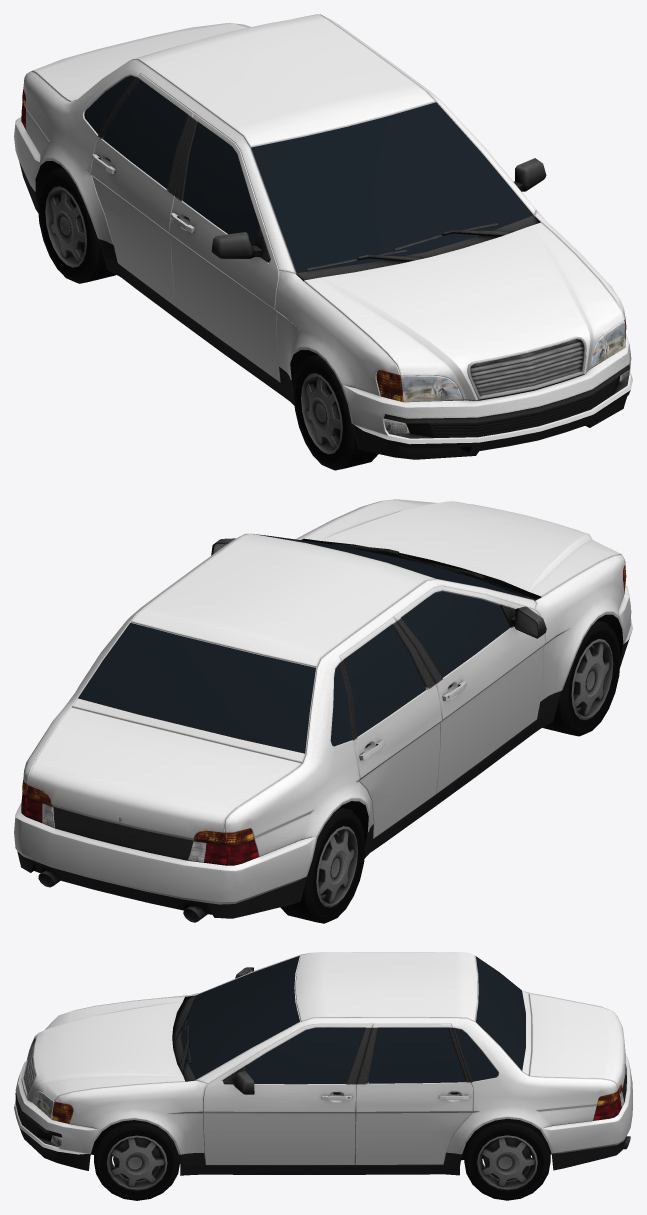
The model's file is berline.glb.
3 renders of one model, top to bottom at view 1: azimuth 30°, elevation 25°; view 2: azimuth 150°, elevation 25°; view 3: azimuth 270°, elevation 25°, orthographic. The views are drawn at different scales.
Parts seen in each view (by area): view 1: carrosserie, wheel_3, wheel_0; view 2: carrosserie, wheel_0, wheel_3; view 3: carrosserie, wheel_1, wheel_2.
Part boxes in pixels (x1=…): carrosserie: x1=14, y1=14, x2=632, y2=459; wheel_3: x1=293, y1=354, x2=378, y2=470; wheel_0: x1=38, y1=167, x2=115, y2=283; carrosserie: x1=14, y1=499, x2=632, y2=922; wheel_0: x1=280, y1=807, x2=365, y2=923; wheel_3: x1=543, y1=620, x2=620, y2=736; carrosserie: x1=14, y1=952, x2=632, y2=1175; wheel_1: x1=464, y1=1119, x2=550, y2=1200; wheel_2: x1=94, y1=1120, x2=179, y2=1200.
Bounding box in the file's own units: 2.18 × 1.51 × 4.91.
Materials: 7 (6 with a texture image).
